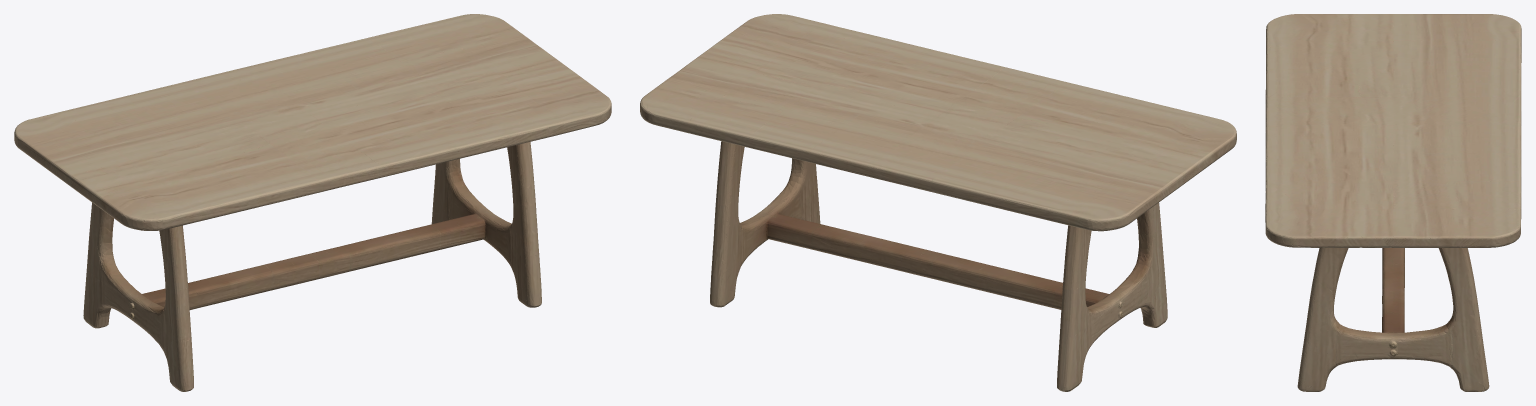
Rendered from cafe-communal-table.glb.
3 renders of one model, left to right at view 1: azimuth 30°, elevation 25°; view 2: azimuth 150°, elevation 25°; view 3: azimuth 270°, elevation 25°, orthographic. The views are drawn at different scales.
Parts seen in each view (by area): view 1: world; view 2: world; view 3: world.
Boxes of the visible parts, x1,y1,x2,y2 form: world: (14,14,611,391); world: (640,14,1236,391); world: (1265,14,1521,391).
Size of the model in its own units: 1 by 0.3882 by 0.4856.
Materials: 1 (1 with a texture image).
